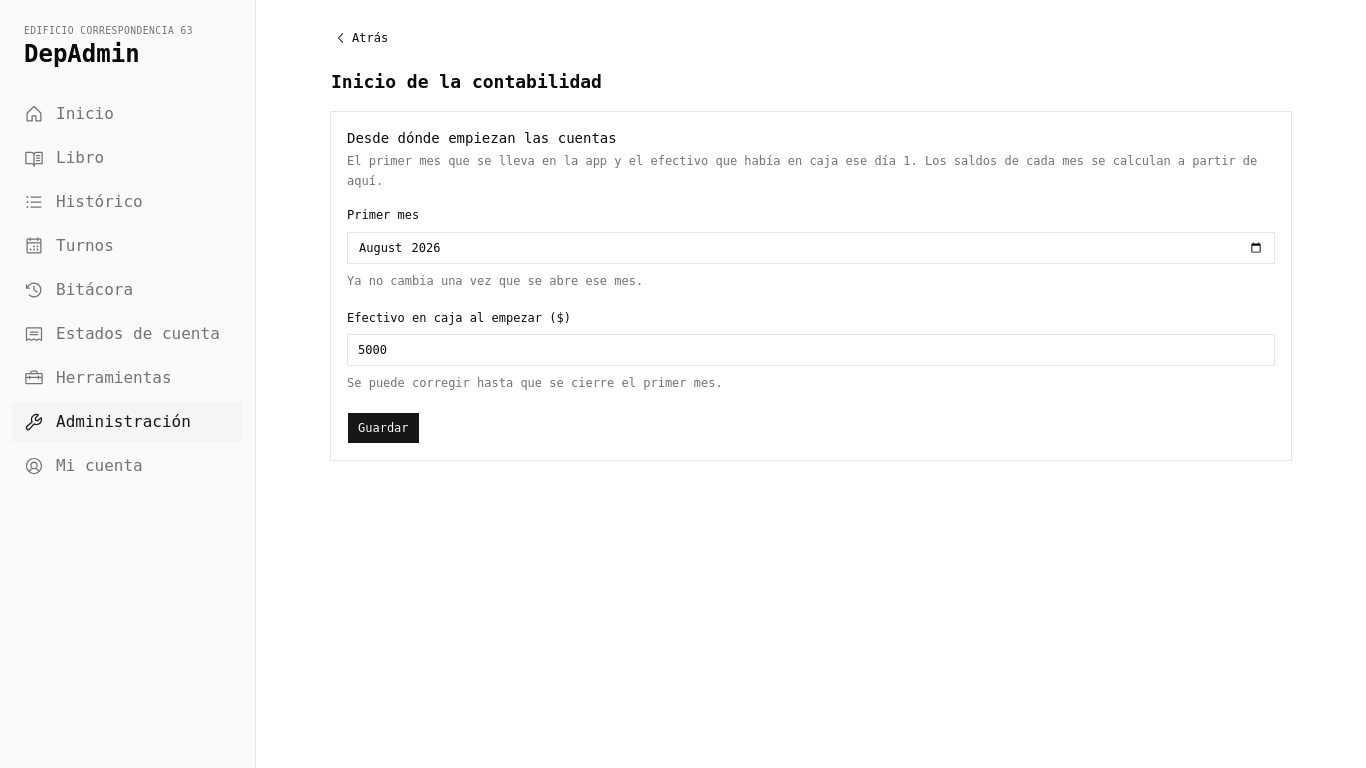
it: ReportingStartPage › explains why it can no longer change
The width and height of the screenshot is (1366, 768).
Check: the field labelled "Efectivo en caja al empezar ($)" holds "5000", box 347,334 -> 1275,366
Click the button "Guardar": (383, 428) 347,412 -> 420,444
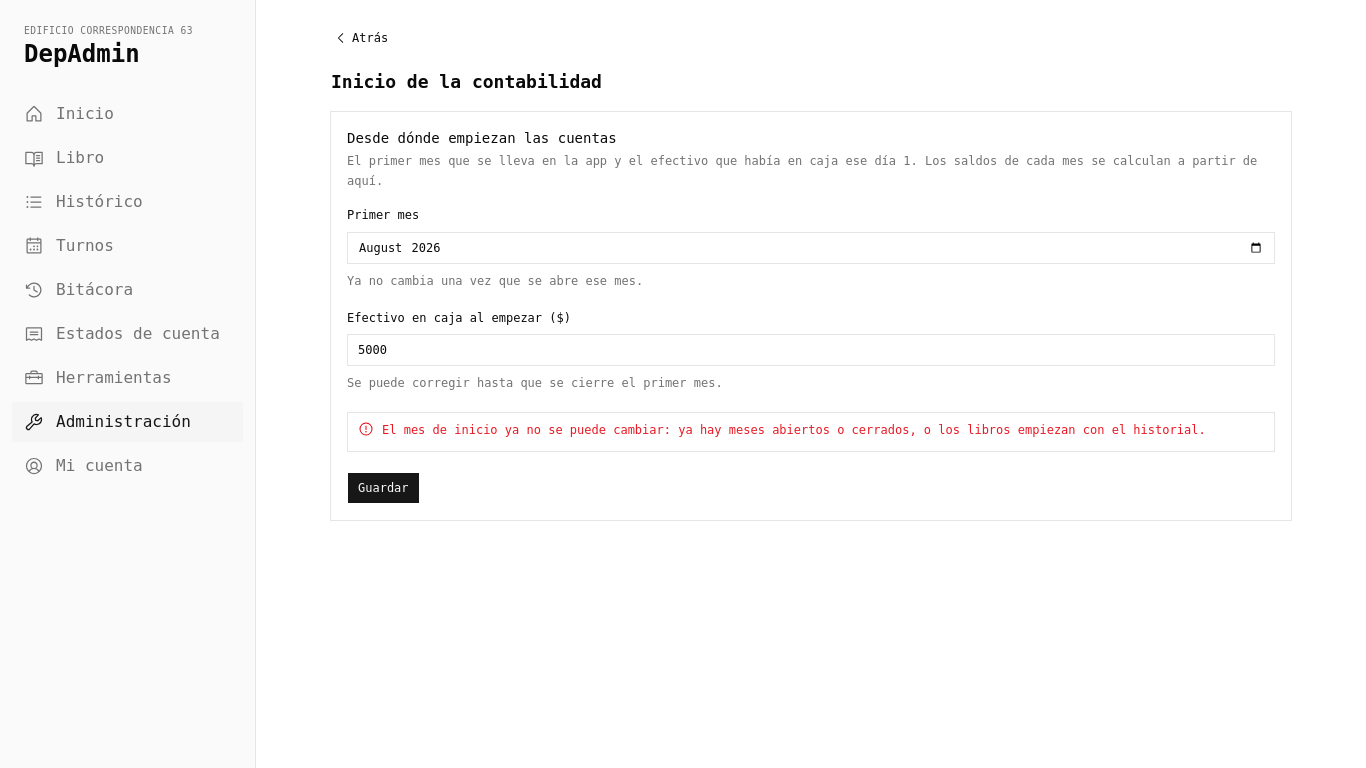
Check: the text "ya no se puede cambiar" is shown, box 382,423 -> 1206,437
